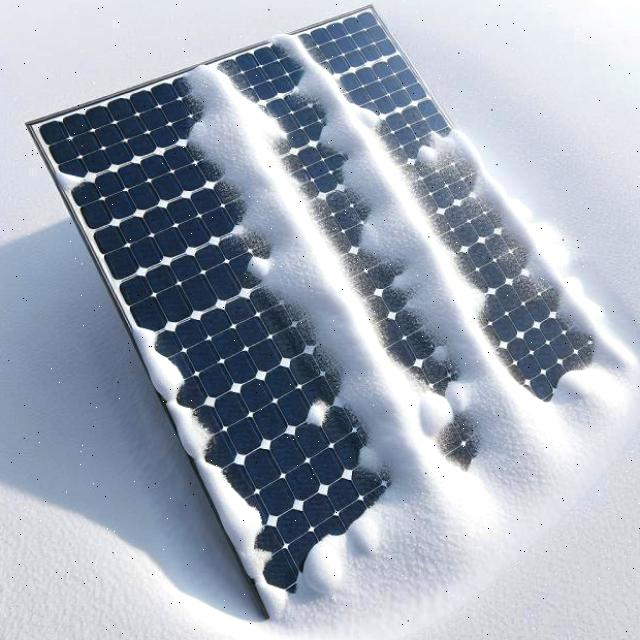Anomaly Solar Panel: (5, 0, 640, 619)
Snow: (5, 0, 640, 620)
